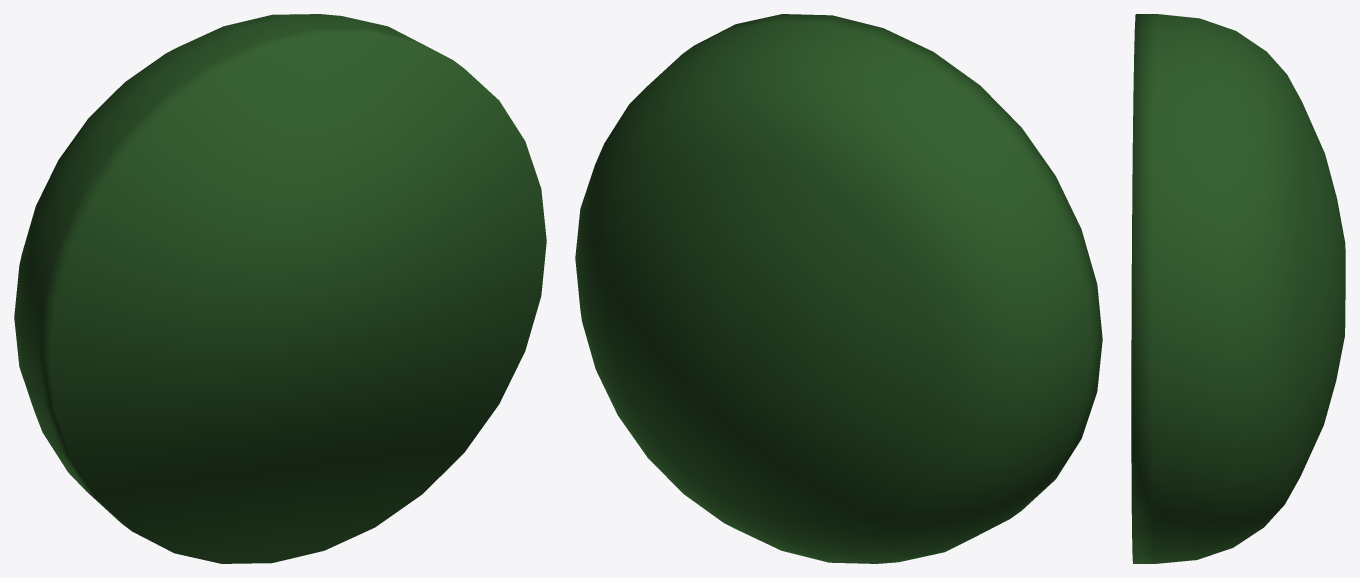
File: greenled.glb
3 views of the same model, side by side, from view 1: azimuth 30°, elevation 25°; view 2: azimuth 150°, elevation 25°; view 3: azimuth 270°, elevation 25° (orthographic). The views are drawn at different scales.
Parts seen in each view (by area): view 1: green; view 2: green; view 3: green.
Part boxes in pixels (<box>): green: <box>14,14,546,563</box>; green: <box>575,14,1102,563</box>; green: <box>1131,14,1345,563</box>.
Size of the model in its own units: 0.8716 by 0.8665 by 0.3381.
